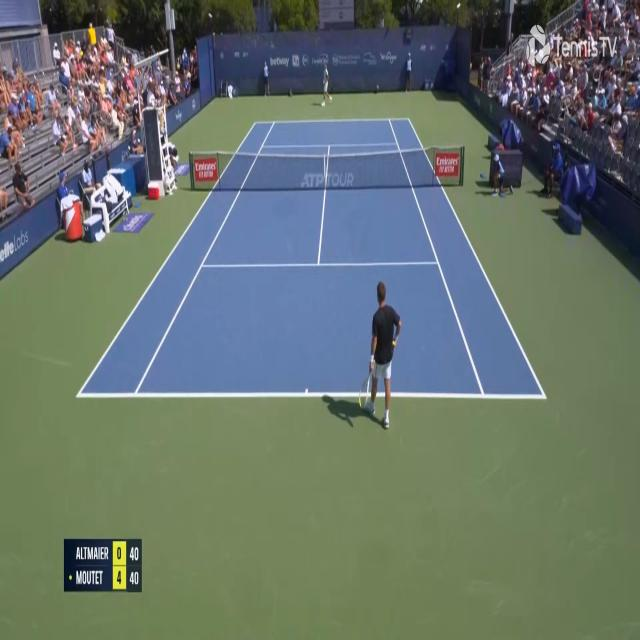tennis-player: (358, 279, 402, 429), (320, 60, 333, 108)
